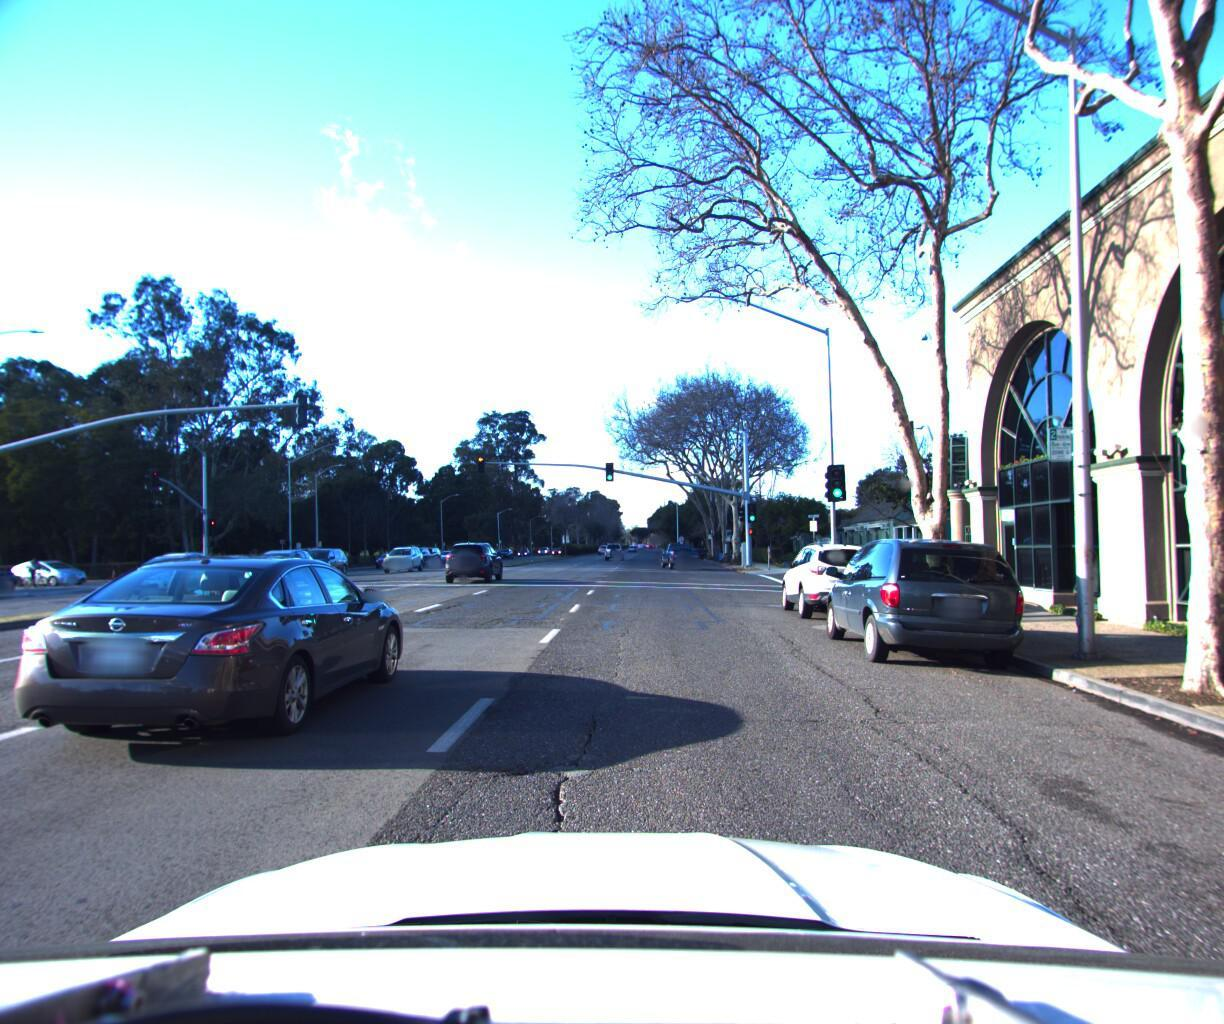bicycle: (16, 551, 63, 586)
car: (814, 526, 1031, 673), (774, 532, 894, 620), (116, 545, 219, 591), (232, 543, 318, 583), (440, 534, 507, 580), (8, 555, 100, 584), (289, 542, 353, 573), (654, 536, 703, 565), (376, 540, 424, 569), (599, 536, 624, 554)
